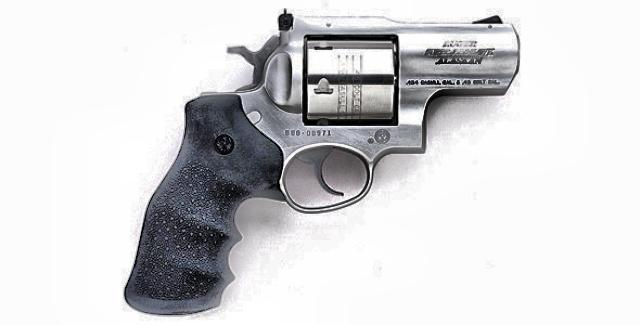pistol: (113, 11, 519, 319)
